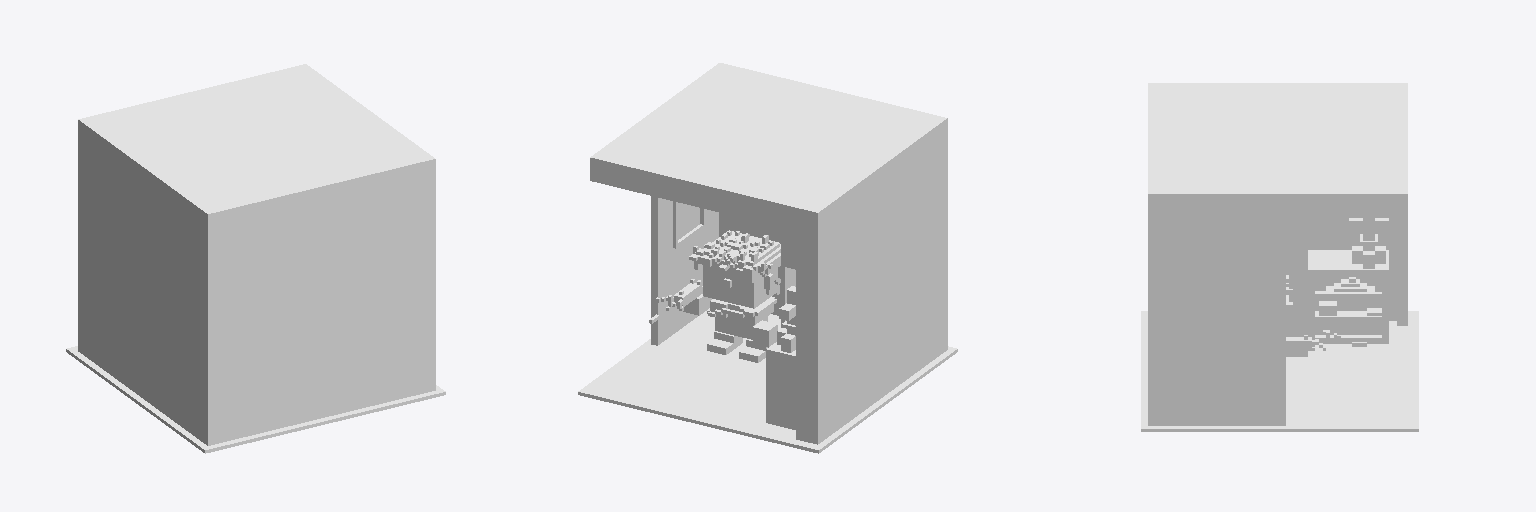
The model's file is Escenario.obj.
3 renders of one model, left to right at view 1: azimuth 30°, elevation 25°; view 2: azimuth 150°, elevation 25°; view 3: azimuth 270°, elevation 25°, orthographic.
Parts seen in each view (by area): view 1: object 1; view 2: object 1; view 3: object 1.
Boxes of the visible parts, x1,y1,x2,y2 form: object 1: [66, 64, 445, 453]; object 1: [578, 63, 957, 453]; object 1: [1141, 83, 1418, 431].
Size of the model in its own units: 7.5 by 7 by 7.5.